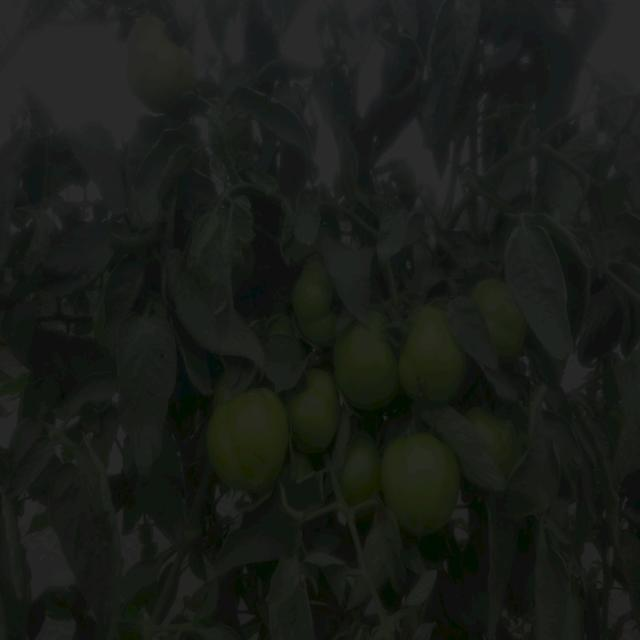tomato: (214, 388, 289, 488), (129, 16, 200, 113), (387, 436, 457, 533), (283, 371, 347, 466), (338, 316, 400, 410), (404, 310, 462, 402), (298, 266, 344, 347), (480, 280, 524, 355), (339, 435, 379, 508), (478, 403, 516, 467)
